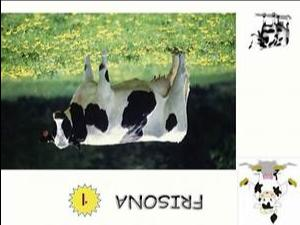cow: (39, 48, 190, 152), (248, 12, 290, 51)
